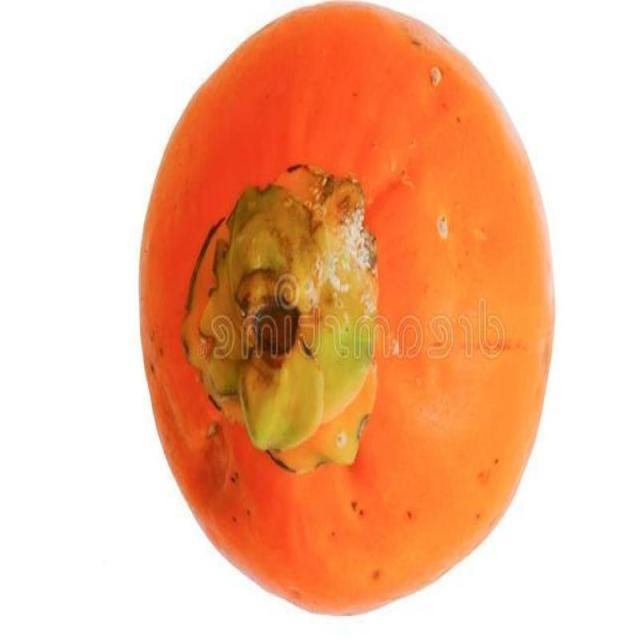good: (136, 1, 558, 618)
